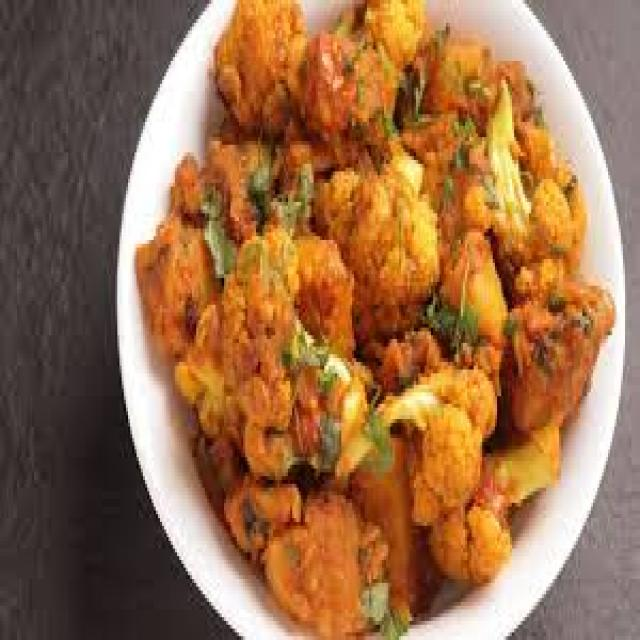Aloo Gobi: (137, 0, 516, 610)
